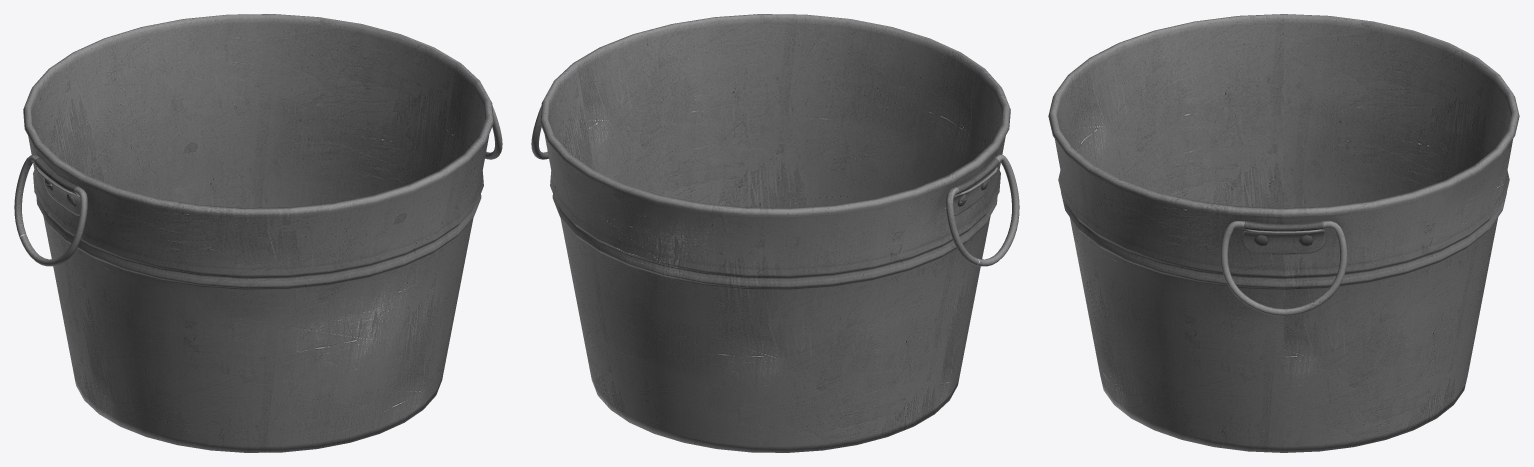
The model's file is ice_bucket.glb.
3 renders of one model, left to right at view 1: azimuth 30°, elevation 25°; view 2: azimuth 150°, elevation 25°; view 3: azimuth 270°, elevation 25°, orthographic.
Parts seen in each view (by area): view 1: bucket_low, handle_left_low, fastener_left_low; view 2: bucket_low, handle_left_low, fastener_left_low; view 3: bucket_low, handle_right_low, fastener_right_low, handle_right_back_low.
Boxes of the visible parts, <box> form: bucket_low: <box>23,14,493,452</box>; handle_left_low: <box>14,155,87,266</box>; fastener_left_low: <box>36,167,80,215</box>; bucket_low: <box>540,14,1010,452</box>; handle_left_low: <box>946,154,1019,266</box>; fastener_left_low: <box>953,167,997,215</box>; bucket_low: <box>1048,14,1519,452</box>; handle_right_low: <box>1220,221,1347,316</box>; fastener_right_low: <box>1242,229,1325,253</box>; handle_right_back_low: <box>1244,221,1323,231</box>.
Bounding box in the file's own units: 0.0318 × 0.0179 × 0.0291.
Materials: 1 (1 with a texture image).
